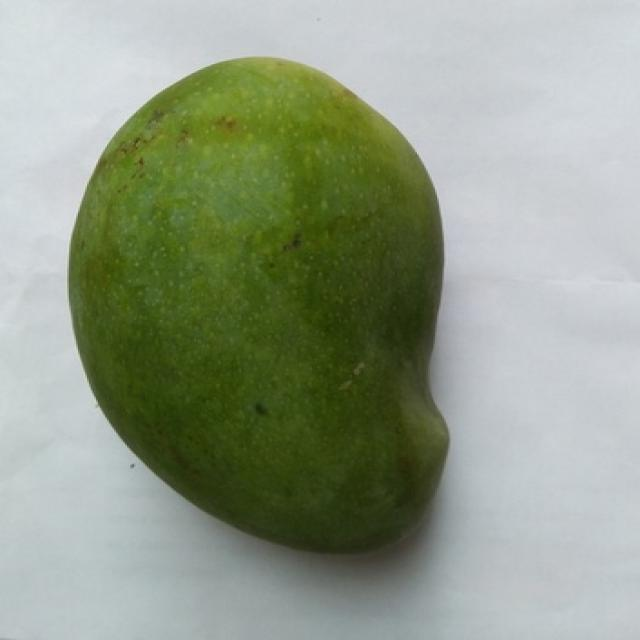Mango: (69, 58, 446, 552)
